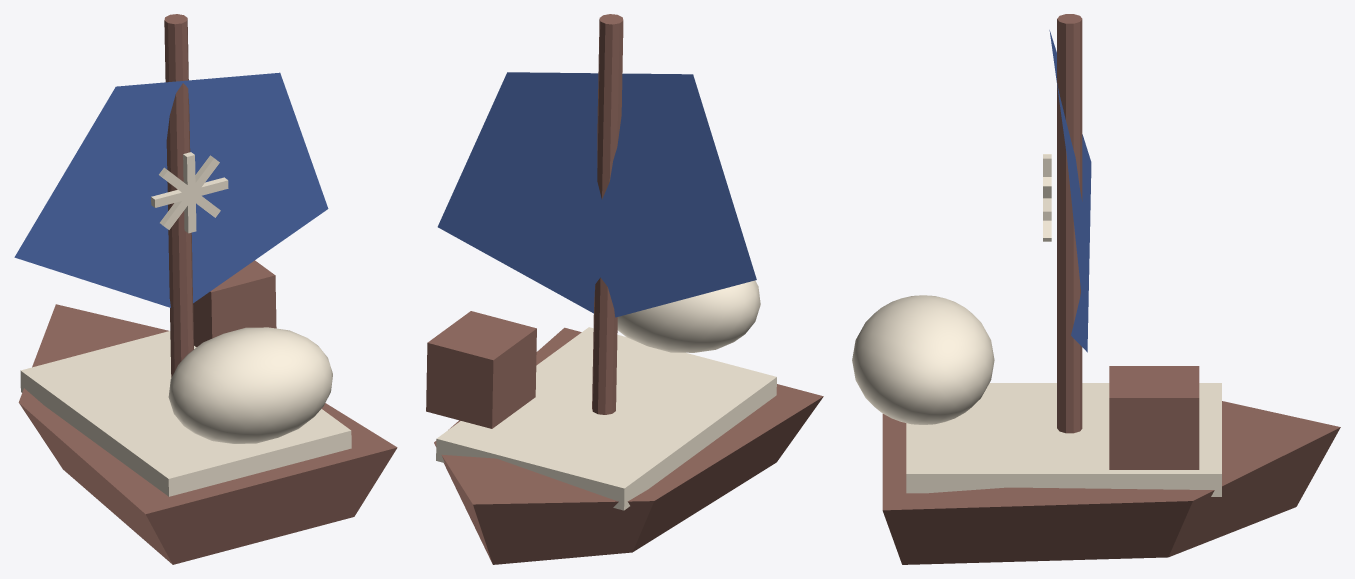
The model's file is colonizer-outremer.glb.
3 views of the same model, side by side, from view 1: azimuth 30°, elevation 25°; view 2: azimuth 150°, elevation 25°; view 3: azimuth 270°, elevation 25° (orthographic). The views are drawn at different scales.
Visible parts, largest first — view 1: Distinctive sail, Carved hull, Pearl deck, Nacre shell, Mast, Settlement crates, Compass emblem.001, Compass emblem.002, Compass emblem, Compass emblem.003; view 2: Distinctive sail, Pearl deck, Carved hull, Settlement crates, Mast, Nacre shell; view 3: Carved hull, Pearl deck, Nacre shell, Settlement crates, Mast, Distinctive sail.
Boxes of the visible parts, x1=… form: Distinctive sail: x1=14, y1=72, x2=328, y2=307; Carved hull: x1=18, y1=304, x2=397, y2=564; Pearl deck: x1=20, y1=331, x2=351, y2=496; Nacre shell: x1=168, y1=327, x2=332, y2=443; Mast: x1=164, y1=14, x2=193, y2=377; Settlement crates: x1=193, y1=260, x2=276, y2=347; Compass emblem.001: x1=160, y1=155, x2=219, y2=229; Compass emblem.002: x1=151, y1=177, x2=228, y2=207; Compass emblem: x1=183, y1=152, x2=196, y2=233; Compass emblem.003: x1=159, y1=167, x2=220, y2=217; Distinctive sail: x1=437, y1=72, x2=756, y2=317; Pearl deck: x1=436, y1=327, x2=776, y2=510; Carved hull: x1=434, y1=327, x2=823, y2=564; Settlement crates: x1=426, y1=311, x2=536, y2=428; Mast: x1=592, y1=14, x2=623, y2=414; Nacre shell: x1=617, y1=280, x2=760, y2=352; Carved hull: x1=882, y1=401, x2=1340, y2=564; Pearl deck: x1=906, y1=383, x2=1221, y2=496; Nacre shell: x1=852, y1=295, x2=994, y2=424; Settlement crates: x1=1109, y1=366, x2=1199, y2=469; Mast: x1=1057, y1=14, x2=1082, y2=433; Distinctive sail: x1=1049, y1=30, x2=1091, y2=352.
Bounding box in the file's own units: 1.36 × 1.95 × 1.74.
